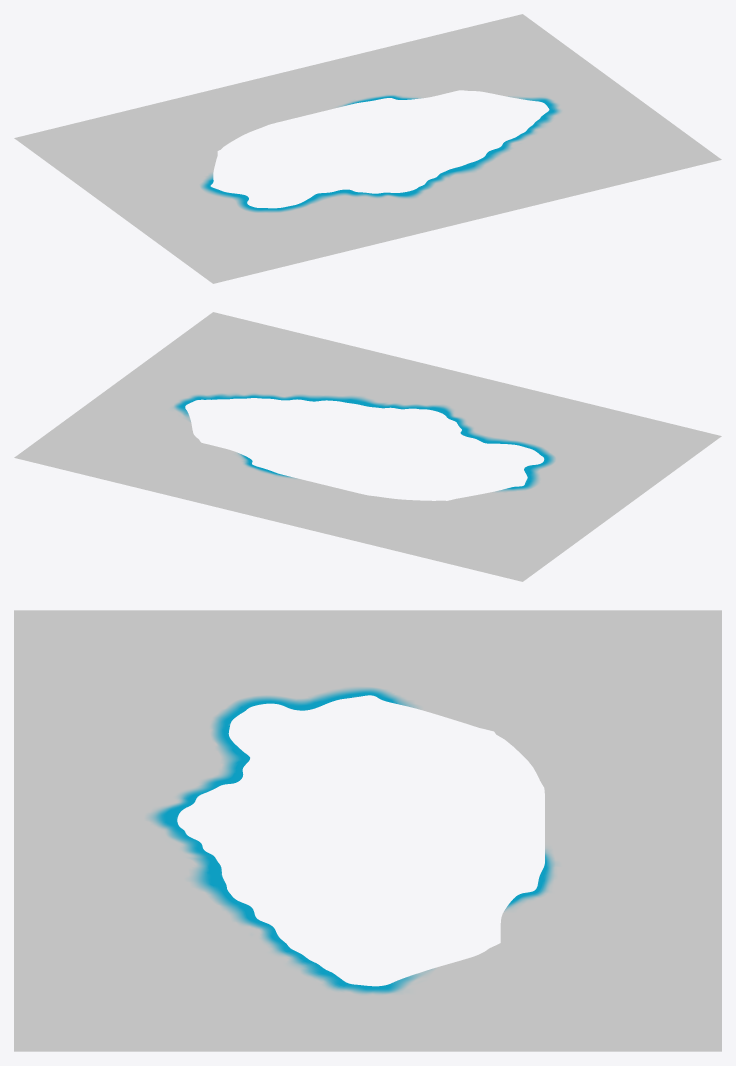
The model's file is hai-p-x3.FBX.
The picture shows the model from 3 angles, top to bottom: view 1: azimuth 30°, elevation 25°; view 2: azimuth 150°, elevation 25°; view 3: azimuth 270°, elevation 25°; orthographic projection. The views are drawn at different scales.
Visible parts, largest first — view 1: Plane022; view 2: Plane022; view 3: Plane022.
Part boxes in pixels (x1=…): Plane022: x1=14, y1=14, x2=721, y2=283; Plane022: x1=14, y1=312, x2=721, y2=581; Plane022: x1=14, y1=610, x2=721, y2=1051.
Bounding box in the file's own units: 324 × 1.35e-14 × 220.
